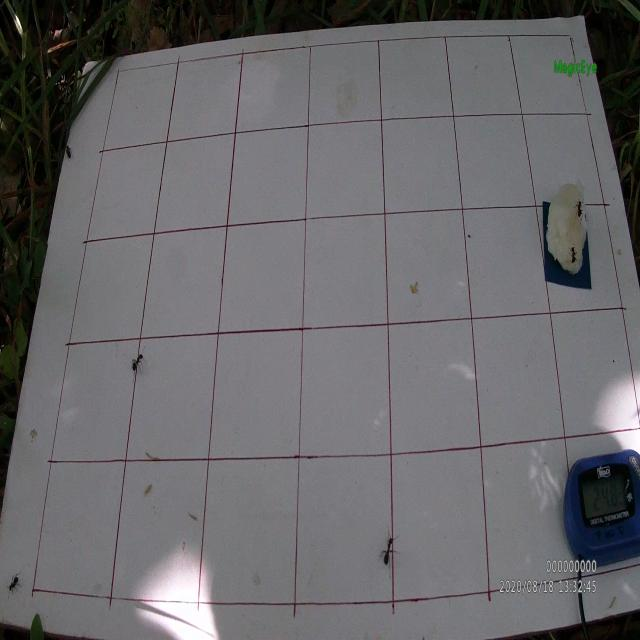Ant: (378, 527, 401, 578), (131, 346, 146, 382), (6, 570, 22, 600), (573, 197, 583, 226), (64, 138, 74, 162), (568, 242, 577, 264)
